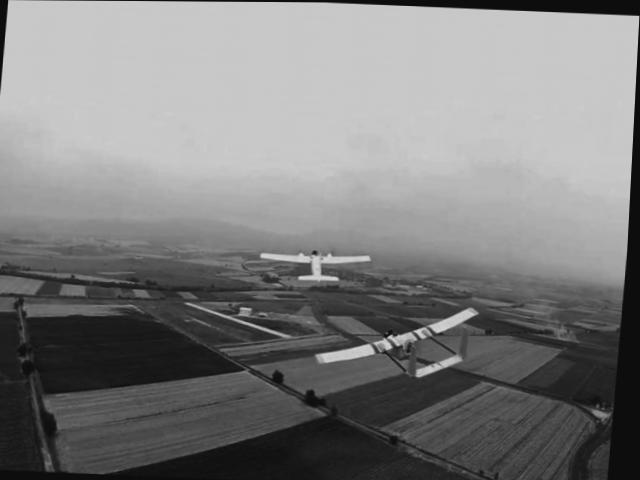hedef: (314, 298, 503, 388), (261, 235, 383, 290)
